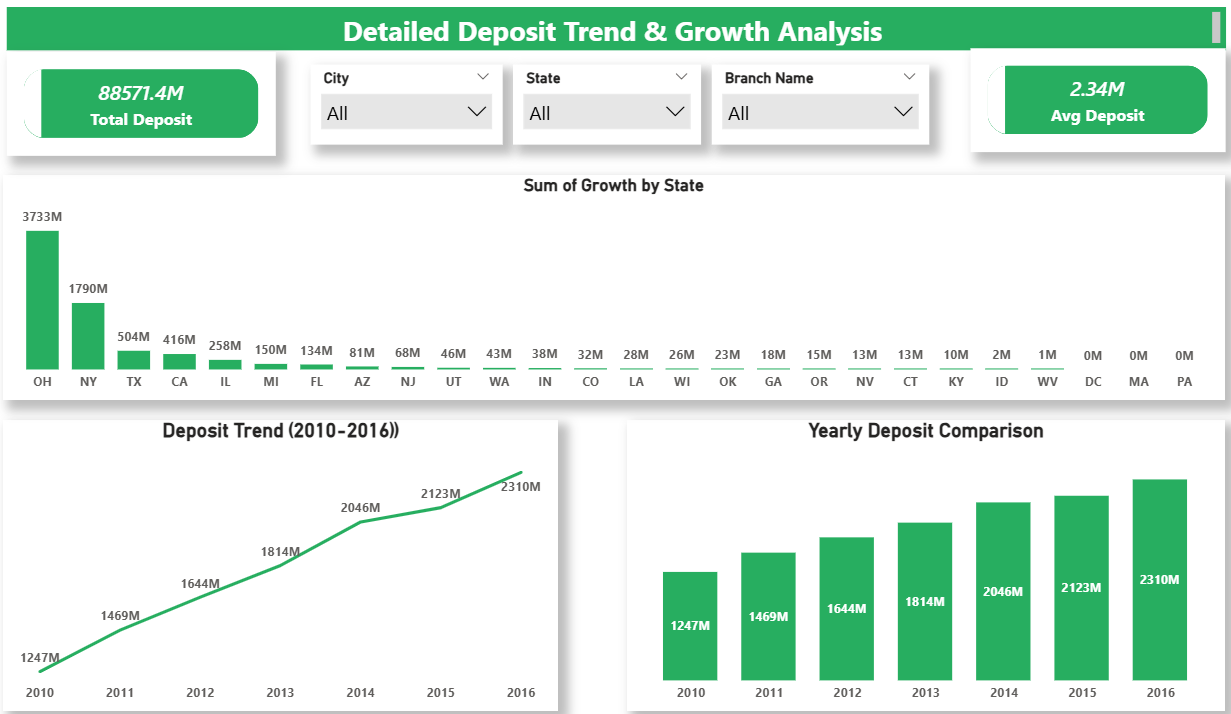

What the dashboard file says about the page in this screenshot:
{"tool":"powerbi","page":{"name":"Page 2","canvas":[1280,720],"ordinal":1},"visuals":[{"type":"textbox","box":[17.8,19.2,1192.5,42.5],"z":0},{"type":"slicer","fields":{"Values":["Cleaned_Chase.City"]},"box":[315.9,76.3,188,78.2],"z":1000},{"type":"slicer","fields":{"Values":["Cleaned_Chase.State"]},"box":[513.5,76.3,183.9,78.2],"z":2000},{"type":"slicer","fields":{"Values":["Cleaned_Chase.Branch Name"]},"box":[708.3,76.3,212.7,78.2],"z":3000},{"type":"columnChart","fields":{"Category":["Cleaned_Chase.State"],"Y":["Sum(Cleaned_Chase.Growth)"]},"box":[15.1,183.9,1195.2,220.9],"z":4000},{"type":"lineChart","title":"Deposit Trend (2010-2016))","fields":{"Category":["Cleaned_Chase.year"],"Y":["Sum(Cleaned_Chase.Value)"]},"box":[15.1,422.6,543.4,285.4],"z":5000},{"type":"clusteredColumnChart","title":"Yearly Deposit Comparison","fields":{"Category":["Cleaned_Chase.year"],"Y":["Sum(Cleaned_Chase.Value)"]},"box":[624.4,422.6,585.9,285.4],"z":6000},{"type":"cardVisual","fields":{"Data":["Cleaned_Chase.Total Deposit"]},"box":[17.8,63.1,263.5,101.5],"z":7000},{"type":"cardVisual","fields":{"Data":["Cleaned_Chase.Avg Deposit"]},"box":[960.6,60.4,249.7,101.5],"z":8000}]}

Visuals, with their boxes on the page's 1280x720 design canvas (x1, y1, x2, y2). These are canvas units, not pixel positions in the 1231x714 screenshot, which may show the page scaled, cropped or inside an application window:
textbox: crop(18, 19, 1210, 62)
slicer - Cleaned_Chase.City: crop(316, 76, 504, 154)
slicer - Cleaned_Chase.State: crop(514, 76, 697, 154)
slicer - Cleaned_Chase.Branch Name: crop(708, 76, 921, 154)
columnChart - Cleaned_Chase.State x Sum(Cleaned_Chase.Growth): crop(15, 184, 1210, 405)
"Deposit Trend (2010-2016))" lineChart: crop(15, 423, 558, 708)
"Yearly Deposit Comparison" clusteredColumnChart: crop(624, 423, 1210, 708)
cardVisual - Cleaned_Chase.Total Deposit: crop(18, 63, 281, 165)
cardVisual - Cleaned_Chase.Avg Deposit: crop(961, 60, 1210, 162)
